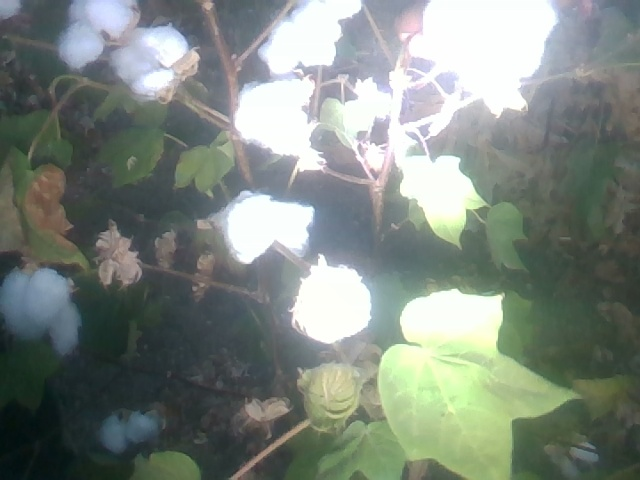cotton: (408, 1, 556, 111), (231, 75, 321, 173), (115, 27, 206, 115), (217, 188, 319, 265), (288, 263, 378, 347), (1, 266, 84, 357), (258, 1, 361, 72), (54, 1, 153, 74), (93, 402, 166, 460), (339, 78, 392, 134)
